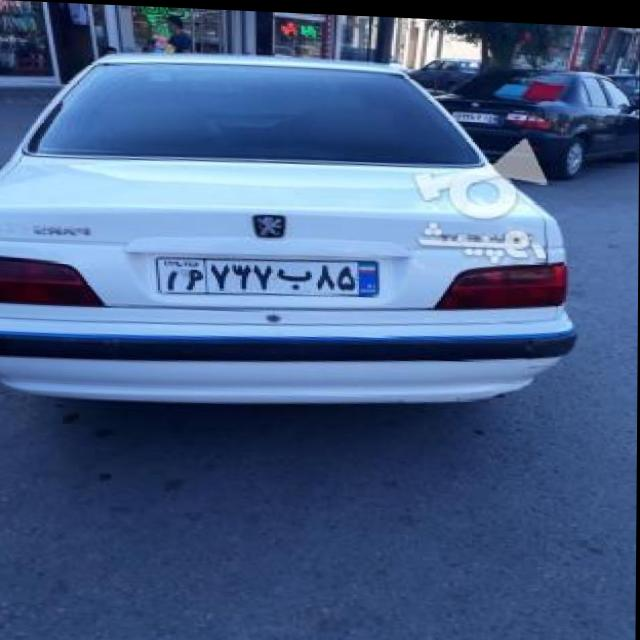licence: (159, 247, 382, 301)
